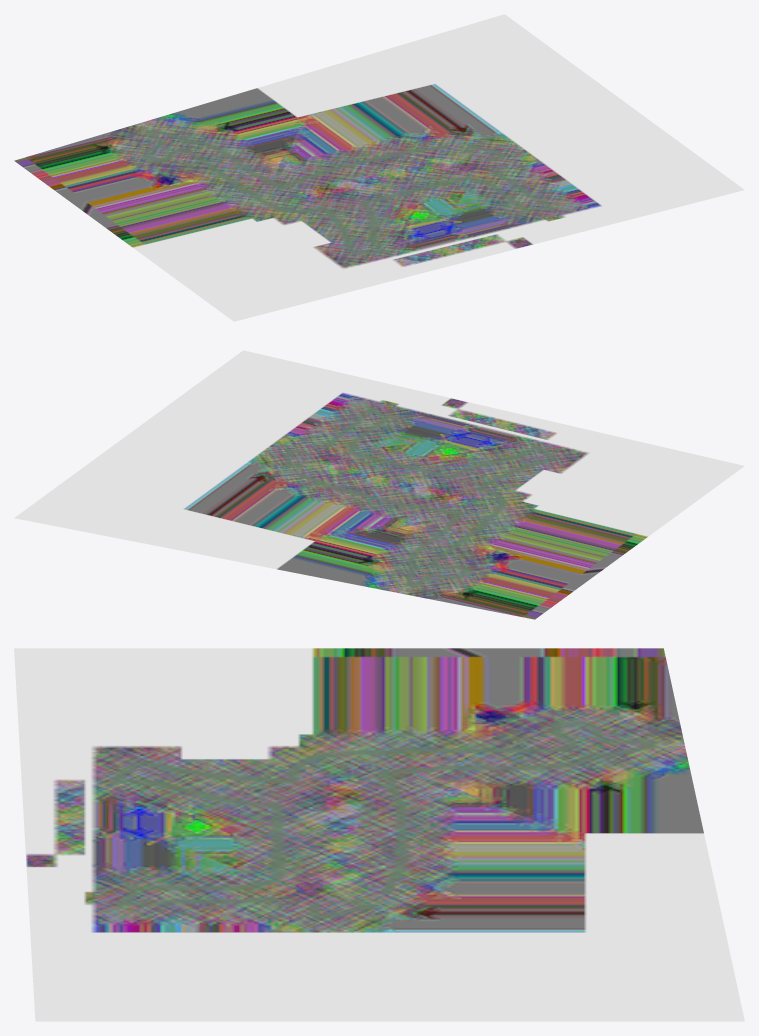
File: DecaleB.FBX
3 views of the same model, one above another, from view 1: azimuth 30°, elevation 25°; view 2: azimuth 150°, elevation 25°; view 3: azimuth 270°, elevation 25° (orthographic). The views are drawn at different scales.
Parts seen in each view (by area): view 1: Object015; view 2: Object015; view 3: Object015.
Part boxes in pixels (box(x1,y1,x2,y2)): Object015: box(14, 14, 744, 321); Object015: box(14, 350, 744, 619); Object015: box(14, 648, 744, 1021).
Bounding box in the file's own units: 1.8 × 1.28e-07 × 1.49.
